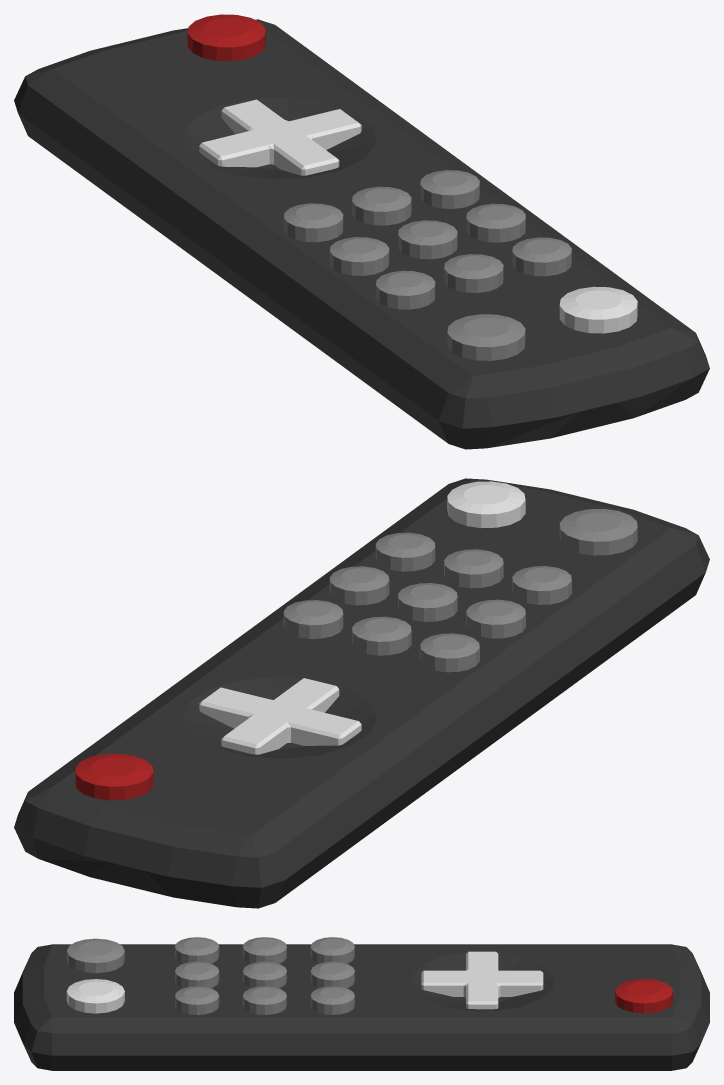
File: 1309 Remote Controller.obj
3 views of the same model, one above another, from view 1: azimuth 30°, elevation 25°; view 2: azimuth 150°, elevation 25°; view 3: azimuth 270°, elevation 25° (orthographic). The views are drawn at different scales.
Parts seen in each view (by area): view 1: Remote_Controller; view 2: Remote_Controller; view 3: Remote_Controller.
Part boxes in pixels (<box>): Remote_Controller: <box>14,14,709,449</box>; Remote_Controller: <box>14,478,709,908</box>; Remote_Controller: <box>14,937,709,1070</box>.
Size of the model in its own units: 14.71 by 4.67 by 44.99.
1 material, 1 textured.
